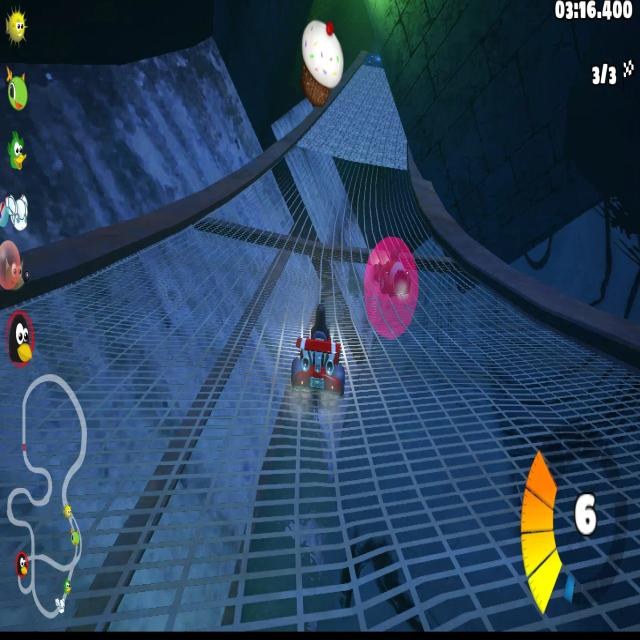player_kart: (287, 300, 347, 407)
track: (1, 423, 640, 627), (1, 306, 288, 421), (353, 318, 640, 417), (227, 198, 430, 281), (176, 226, 291, 304), (354, 282, 528, 315), (115, 248, 179, 300), (361, 69, 383, 201), (338, 79, 361, 196), (288, 152, 340, 194), (386, 110, 404, 196), (82, 263, 117, 304), (321, 118, 340, 154), (265, 170, 287, 196), (306, 123, 318, 156)
